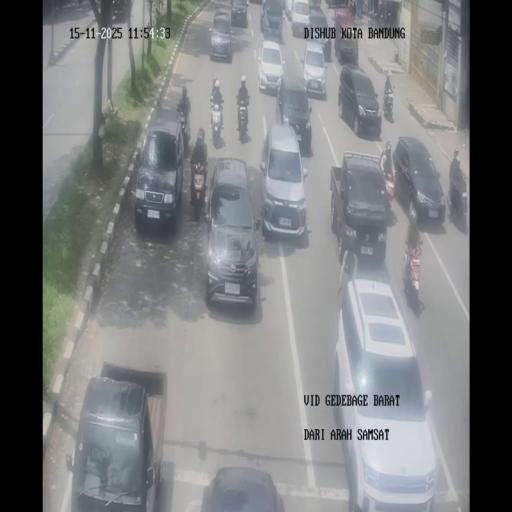car: (335, 280, 437, 506), (66, 369, 162, 510), (203, 161, 260, 309), (134, 103, 185, 231), (392, 136, 446, 224), (200, 464, 288, 510), (339, 64, 381, 137), (276, 75, 312, 152), (257, 40, 285, 94), (334, 8, 359, 65), (209, 9, 233, 62), (307, 7, 330, 56), (260, 0, 283, 40), (291, 0, 311, 37), (230, 0, 248, 27), (111, 0, 131, 22), (285, 0, 295, 21), (308, 0, 322, 10)
motorcycle: (402, 252, 424, 314), (188, 155, 208, 221), (447, 168, 468, 220), (209, 94, 224, 144), (177, 100, 192, 150), (236, 91, 250, 139), (383, 161, 396, 210), (382, 82, 394, 122), (368, 4, 380, 24), (211, 75, 220, 99), (378, 1, 385, 24), (347, 0, 353, 18)
truck: (330, 152, 390, 269), (326, 0, 348, 9)
